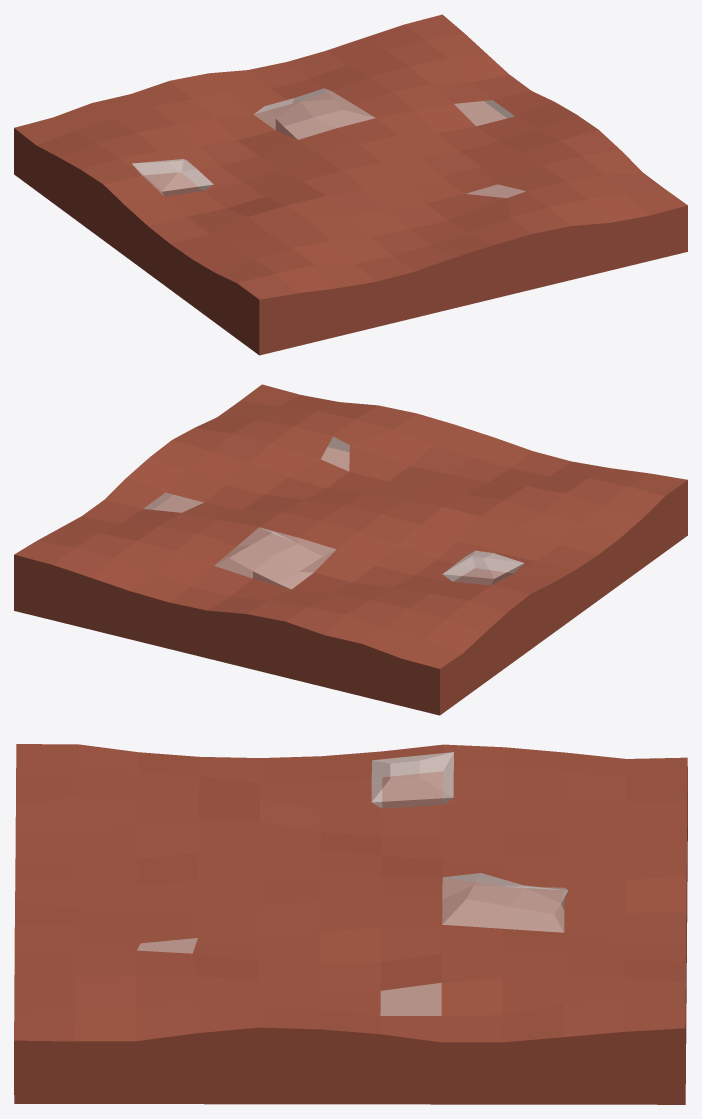
Rendered from Big.glb.
3 views of the same model, one above another, from view 1: azimuth 30°, elevation 25°; view 2: azimuth 150°, elevation 25°; view 3: azimuth 270°, elevation 25° (orthographic). The views are drawn at different scales.
Visible parts, largest first — view 1: Big_Copper; view 2: Big_Copper; view 3: Big_Copper.
Part boxes in pixels (box(x1,y1,x2,y2)): Big_Copper: box(14, 14, 687, 355); Big_Copper: box(14, 384, 687, 715); Big_Copper: box(14, 744, 687, 1104).
Bounding box in the file's own units: 8.73 × 1.39 × 8.73.
